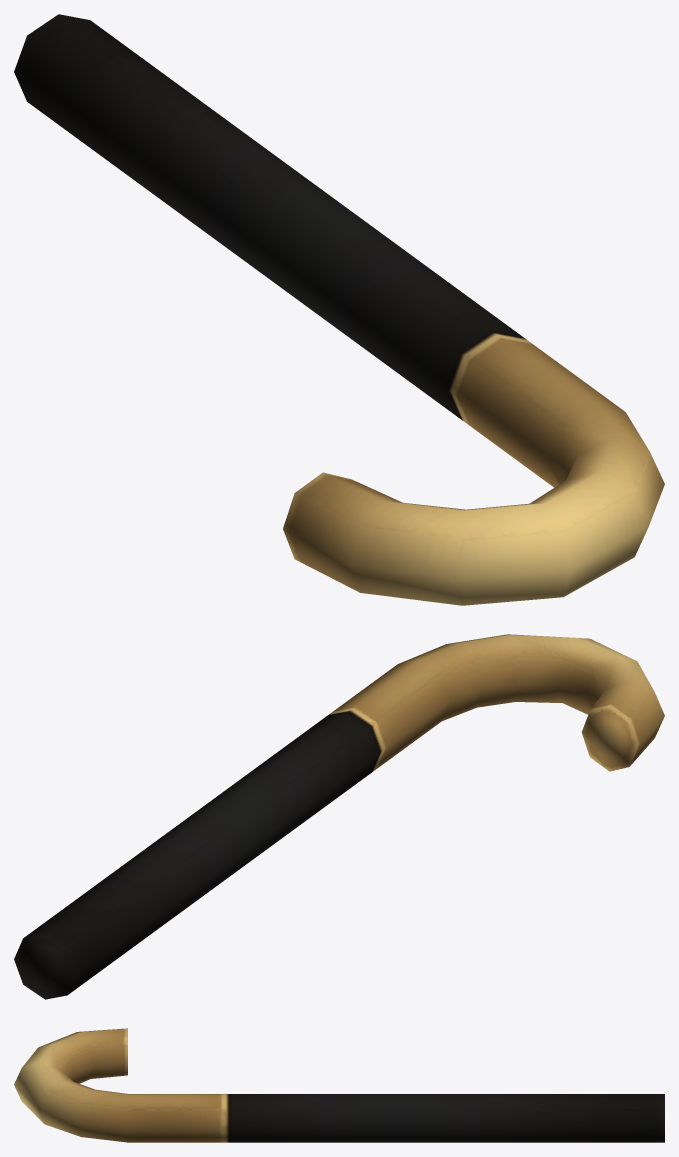
Rendered from M_Walking_stickA_3.glb.
3 views of the same model, one above another, from view 1: azimuth 30°, elevation 25°; view 2: azimuth 150°, elevation 25°; view 3: azimuth 270°, elevation 25° (orthographic). The views are drawn at different scales.
Visible parts, largest first — view 1: SM_Walking_stickA; view 2: SM_Walking_stickA; view 3: SM_Walking_stickA.
Part boxes in pixels (x1=…): SM_Walking_stickA: x1=14, y1=14, x2=664, y2=605; SM_Walking_stickA: x1=14, y1=634, x2=664, y2=999; SM_Walking_stickA: x1=14, y1=1028, x2=664, y2=1142.
Bounding box in the file's own units: 0.2389 × 0.06 × 0.7544.
1 material, 1 textured.
